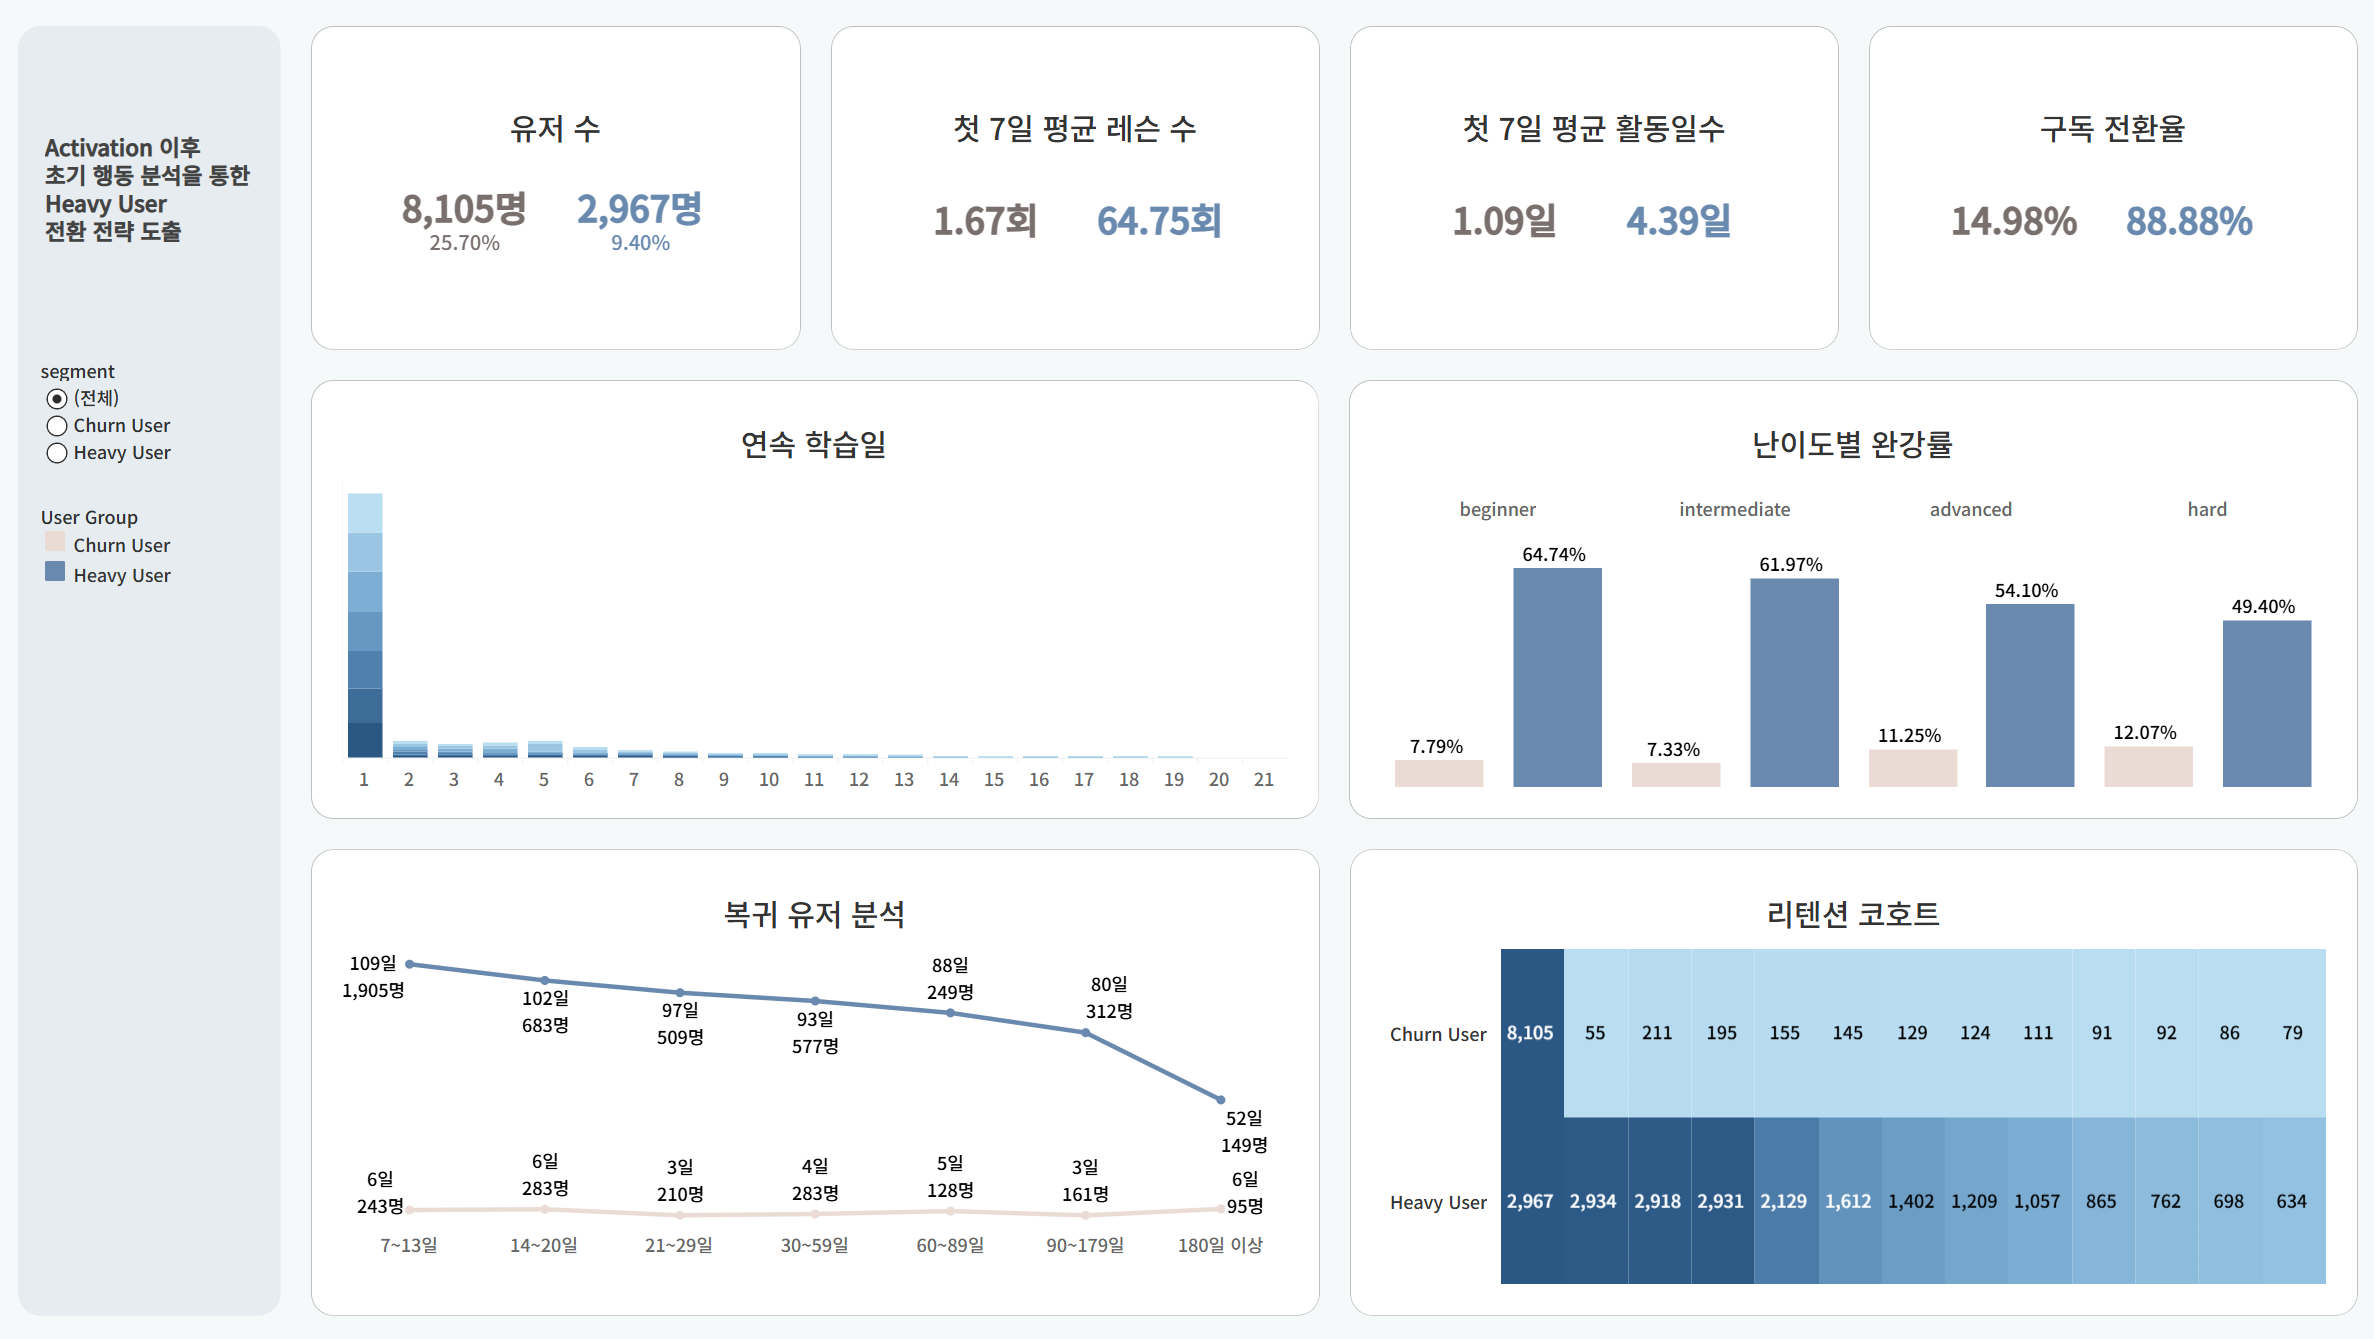

This screenshot's page, from the dashboard's own definition file:
{"tool":"tableau","page":{"name":"대시보드 1","canvas":[1600,900],"ordinal":0},"visuals":[{"type":"worksheet","title":"유저 수","mark":"Automatic","cols":["segment"],"box":[205,10,347,236]},{"type":"worksheet","title":"첫 7일 평균 레슨 수","mark":"Automatic","cols":["segment"],"box":[552,10,346,236]},{"type":"worksheet","title":"첫 7일 평균 활동일수","mark":"Automatic","cols":["segment"],"box":[898,10,346,236]},{"type":"worksheet","title":"구독 전환율","mark":"Automatic","cols":["segment"],"box":[1244,10,346,236]},{"type":"text","box":[25,25,164.5,207]},{"type":"filter","title":"유저 수","param":"[federated.0y0dz1t09teg5p1bjl6nd0vl8vof].[none:segment:nk]","box":[25,232,164.5,96]},{"type":"worksheet","title":"연속 학습일","mark":"Automatic","rows":["피벗 필드 값"],"cols":["streak_length"],"box":[204.5,245.8,692.7,313.6]},{"type":"worksheet","title":"난이도별 완강률","mark":"Automatic","rows":["completion_rate"],"cols":["difficulty","user_group"],"box":[897.2,245.8,692.8,313.6]},{"type":"legend","title":"난이도별 완강률","param":"[federated.0rt09px0b8o4r919d9zx40bs0hm3].[none:user_group:nk]","box":[25,328,164.5,76]},{"type":"worksheet","title":"복귀 유저 분석","mark":"Line","rows":["avg_learning_days_after_return"],"cols":["inactive_period"],"box":[205,559,693,331]},{"type":"worksheet","title":"리텐션 코호트","mark":"Square","rows":["F1"],"cols":["피벗 필드명"],"box":[898,559,692,331]}]}

Visuals, with their boxes in screenshot pixels (x1, y1, x2, y2), scaled from the page's 1600x900 canvas onto the 2374x1339 screenshot:
"유저 수" worksheet: (left=304, top=15, right=819, bottom=366)
"첫 7일 평균 레슨 수" worksheet: (left=819, top=15, right=1332, bottom=366)
"첫 7일 평균 활동일수" worksheet: (left=1332, top=15, right=1846, bottom=366)
"구독 전환율" worksheet: (left=1846, top=15, right=2359, bottom=366)
text: (left=37, top=37, right=281, bottom=345)
"유저 수" filter: (left=37, top=345, right=281, bottom=488)
"연속 학습일" worksheet: (left=303, top=366, right=1331, bottom=832)
"난이도별 완강률" worksheet: (left=1331, top=366, right=2359, bottom=832)
"난이도별 완강률" legend: (left=37, top=488, right=281, bottom=601)
"복귀 유저 분석" worksheet (Line marks): (left=304, top=832, right=1332, bottom=1324)
"리텐션 코호트" worksheet (Square marks): (left=1332, top=832, right=2359, bottom=1324)
